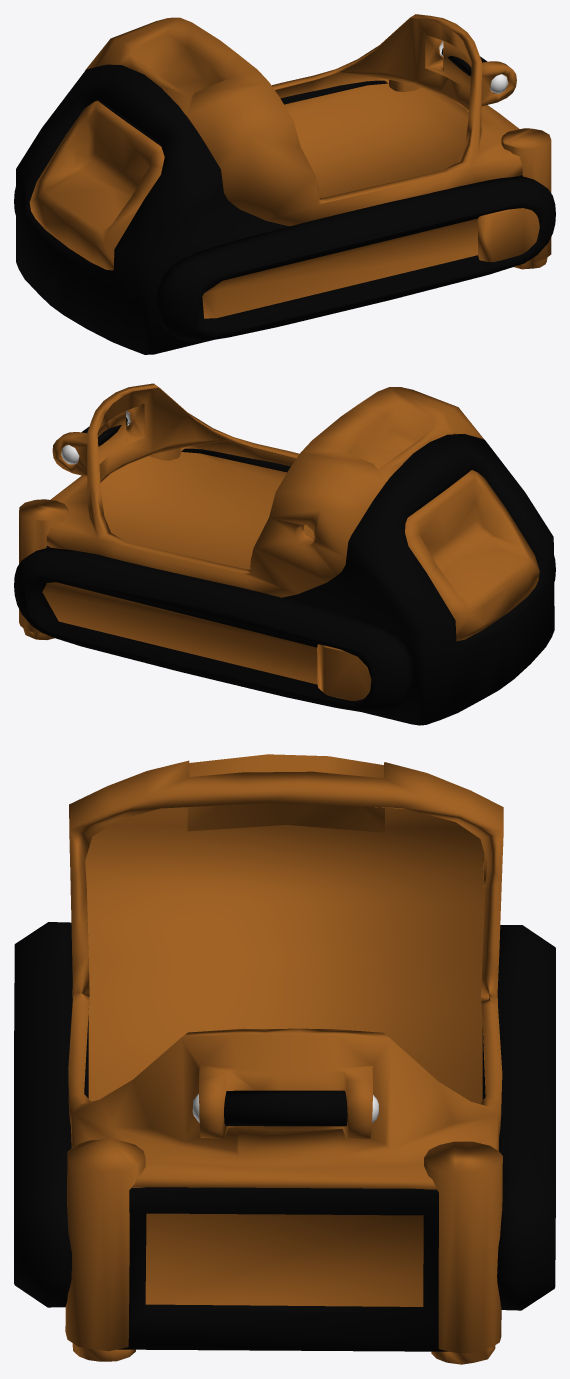
File: Battery (Optimized).fbx
The picture shows the model from 3 angles, top to bottom: view 1: azimuth 30°, elevation 25°; view 2: azimuth 150°, elevation 25°; view 3: azimuth 270°, elevation 25°; orthographic projection. The views are drawn at different scales.
Visible parts, largest first — view 1: Battery; view 2: Battery; view 3: Battery.
Part boxes in pixels (bbox=[...]): Battery: bbox=[14, 14, 555, 354]; Battery: bbox=[14, 383, 555, 725]; Battery: bbox=[14, 754, 555, 1364].
Size of the model in its own units: 8.9 by 4.68 by 6.12.
